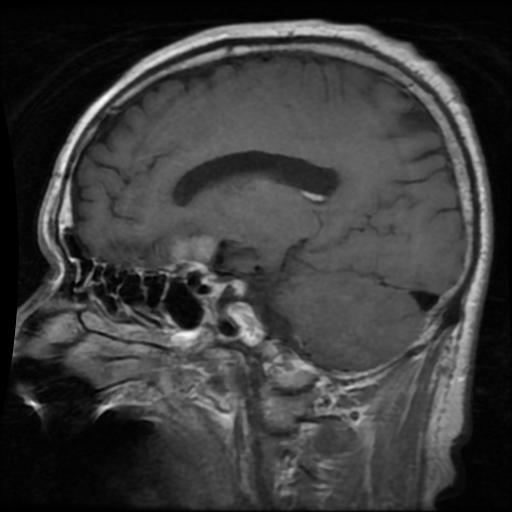Pituirity_tumour: (169, 235, 213, 263)
